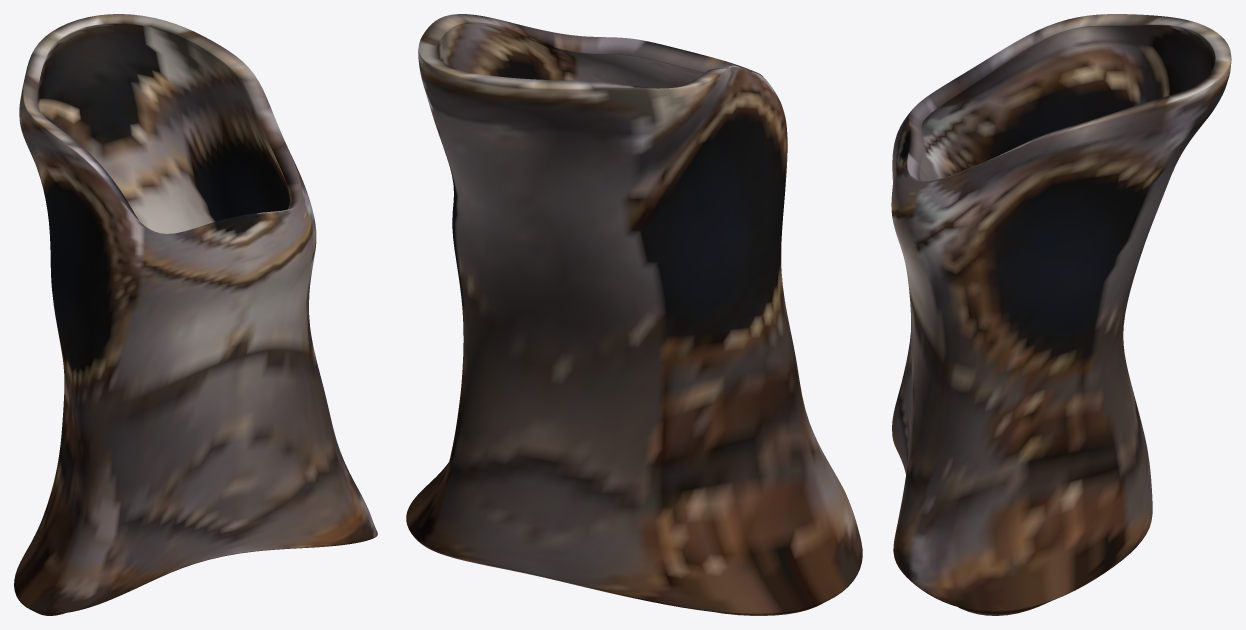
Rendered from ruestung.brust.stahlplatte.glb.
The picture shows the model from 3 angles, left to right: view 1: azimuth 30°, elevation 25°; view 2: azimuth 150°, elevation 25°; view 3: azimuth 270°, elevation 25°; orthographic projection. The views are drawn at different scales.
Parts seen in each view (by area): view 1: teil; view 2: teil; view 3: teil.
Part boxes in pixels (x1,y1,x2,y2): teil: (14, 14, 377, 615); teil: (406, 14, 862, 615); teil: (891, 14, 1231, 615).
Size of the model in its own units: 0.4673 by 0.6176 by 0.3902.
